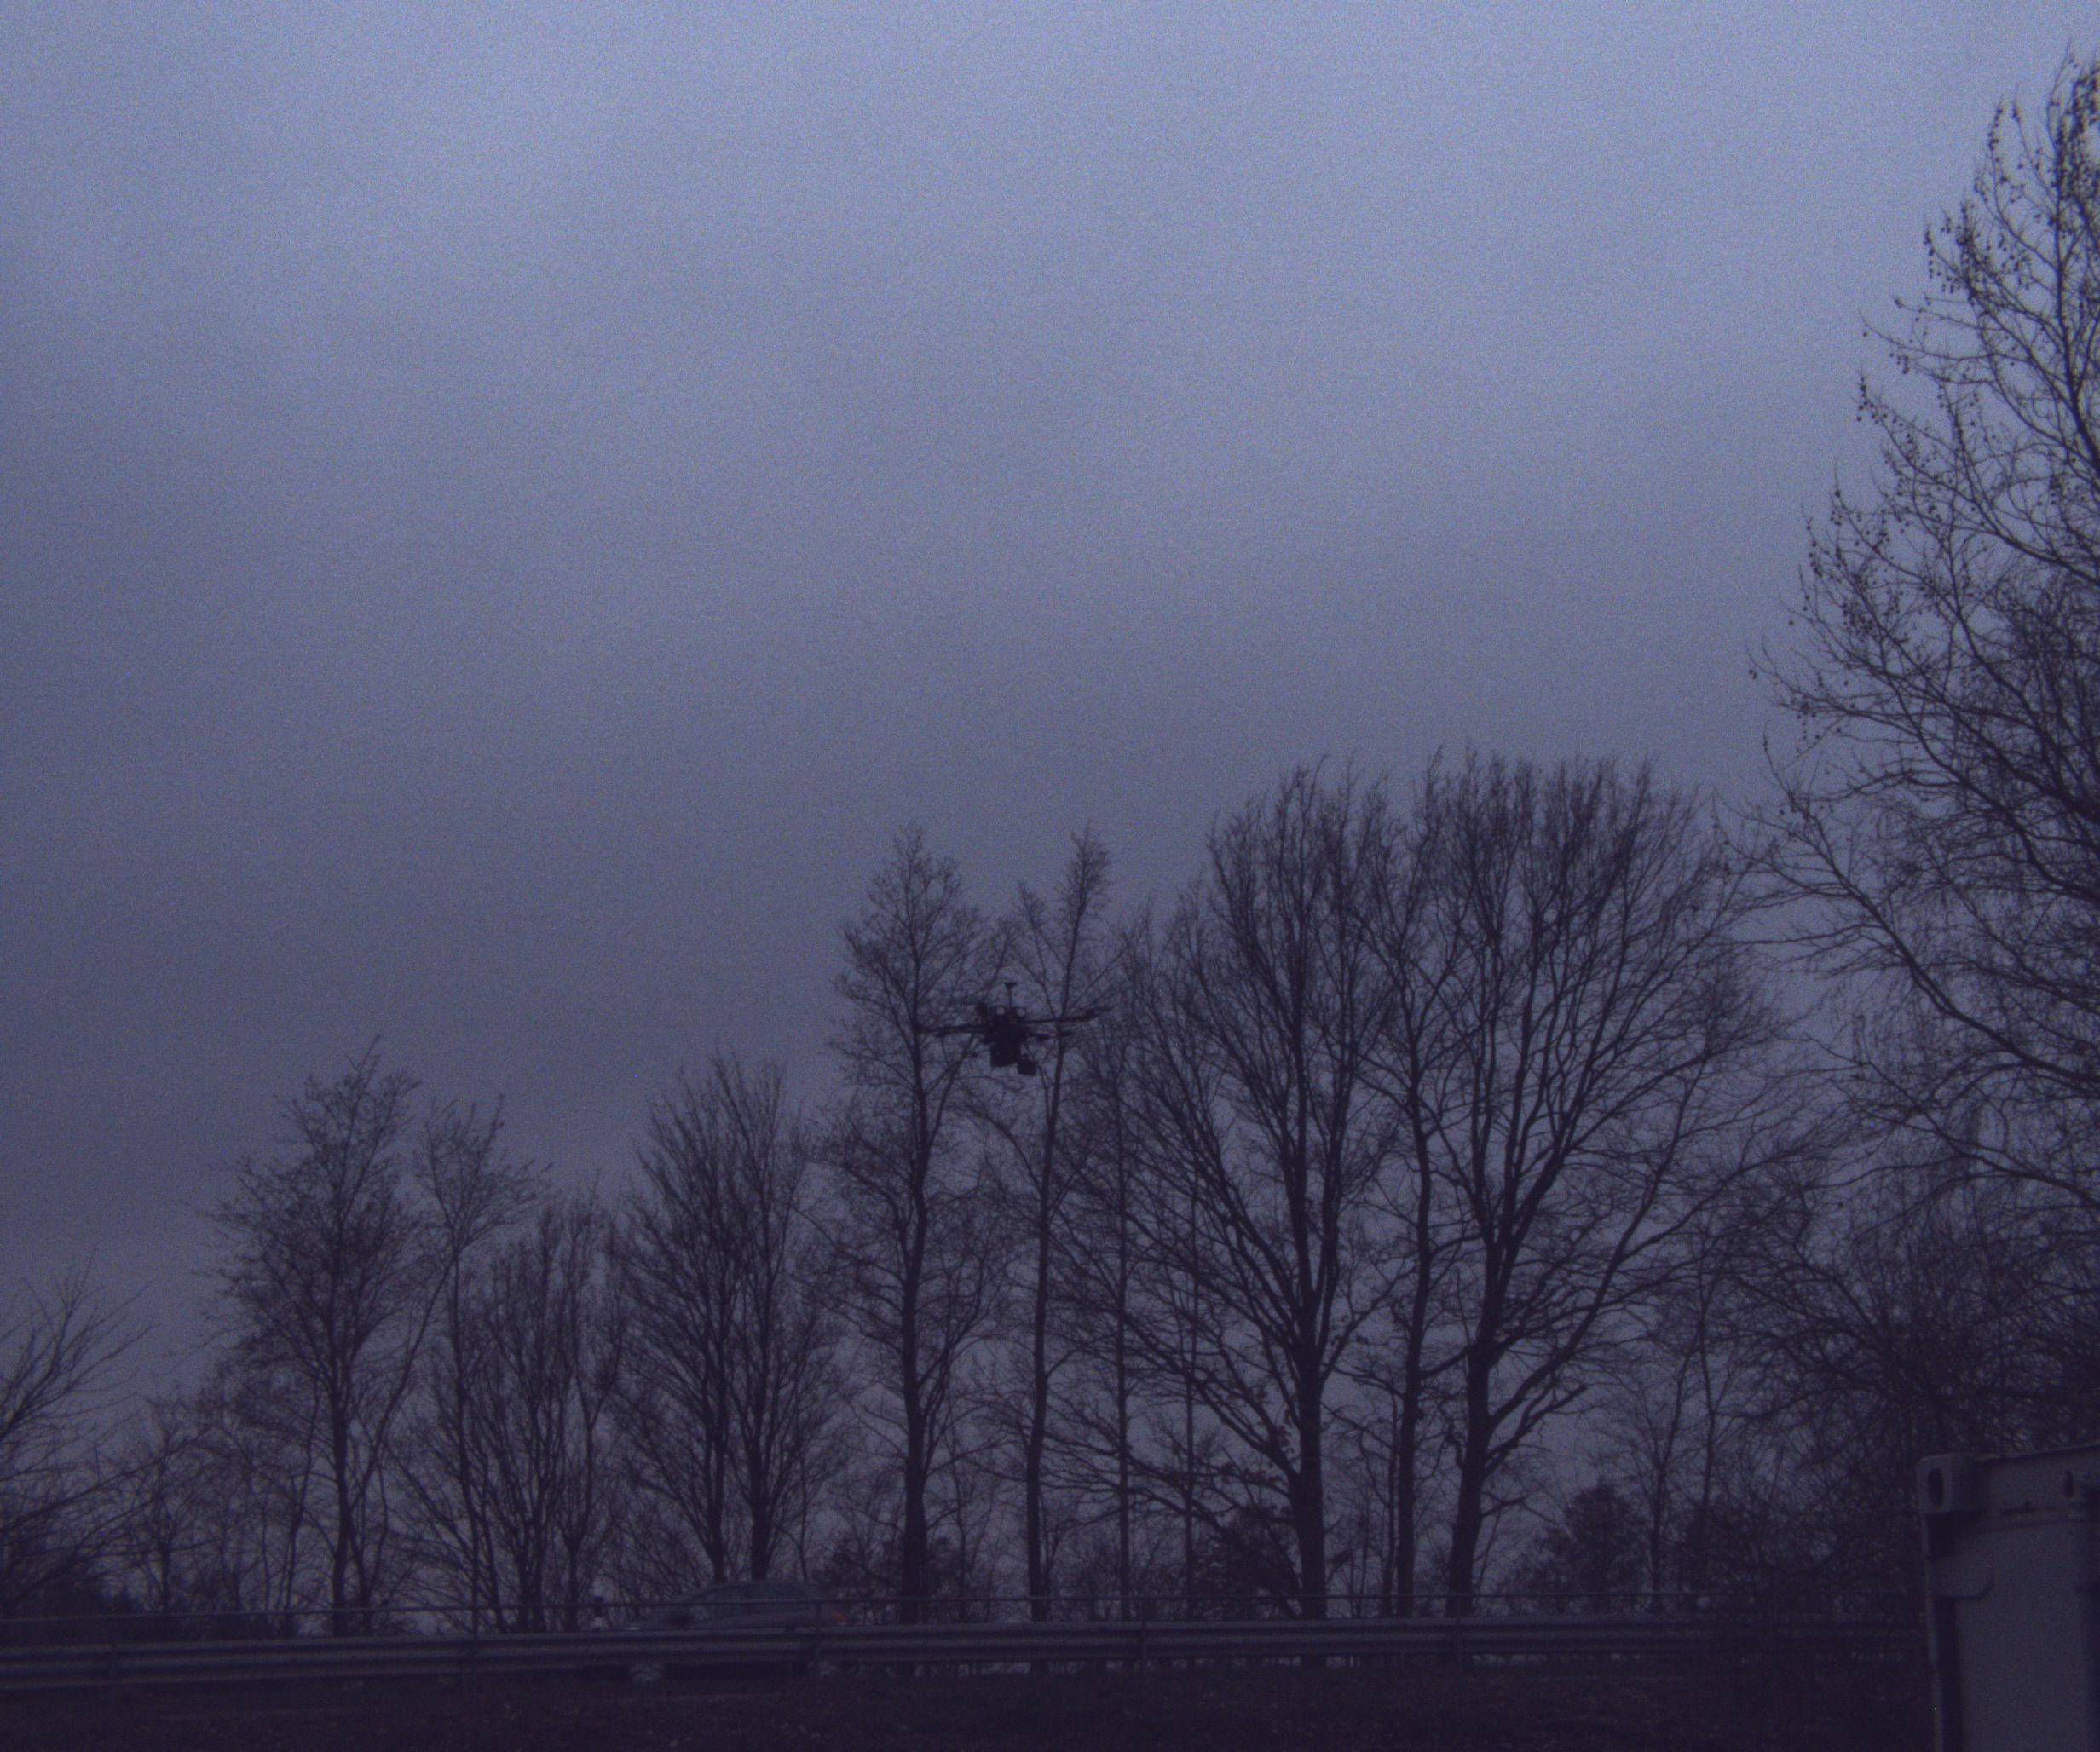Drohne: (886, 948, 1247, 1156)
